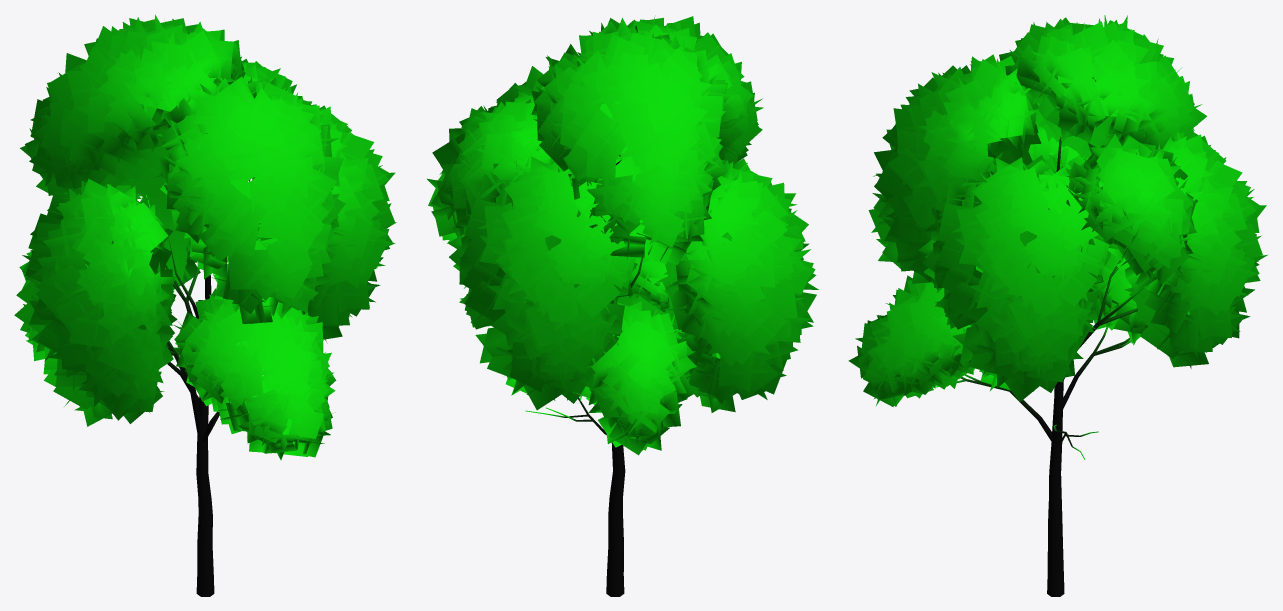
The model's file is SM_Tree_05.fbx.
The picture shows the model from 3 angles, left to right: view 1: azimuth 30°, elevation 25°; view 2: azimuth 150°, elevation 25°; view 3: azimuth 270°, elevation 25°; orthographic projection. The views are drawn at different scales.
Visible parts, largest first — view 1: _Tree.02; view 2: _Tree.02; view 3: _Tree.02.
Part boxes in pixels (box(x1,y1,x2,y2)): _Tree.02: box(14, 14, 396, 596); _Tree.02: box(427, 15, 818, 596); _Tree.02: box(848, 15, 1267, 596).
Size of the model in its own units: 481 by 754 by 514.
